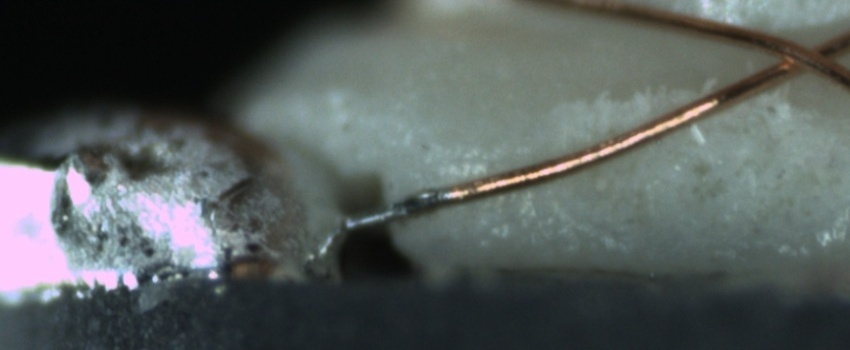CL: (763, 30, 843, 80)
DL: (436, 137, 568, 189)
TS: (342, 188, 447, 231)
TTCW: (320, 177, 489, 256)
